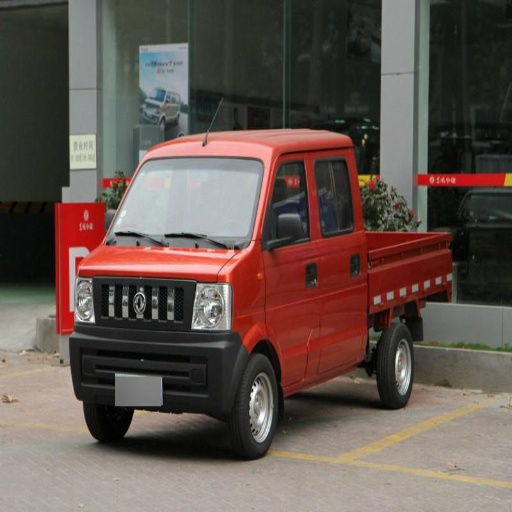front_bumper: (70, 277, 246, 411)
front_glass: (107, 160, 262, 247)
front_left_door: (261, 154, 326, 381)
trunk: (344, 231, 436, 351)
